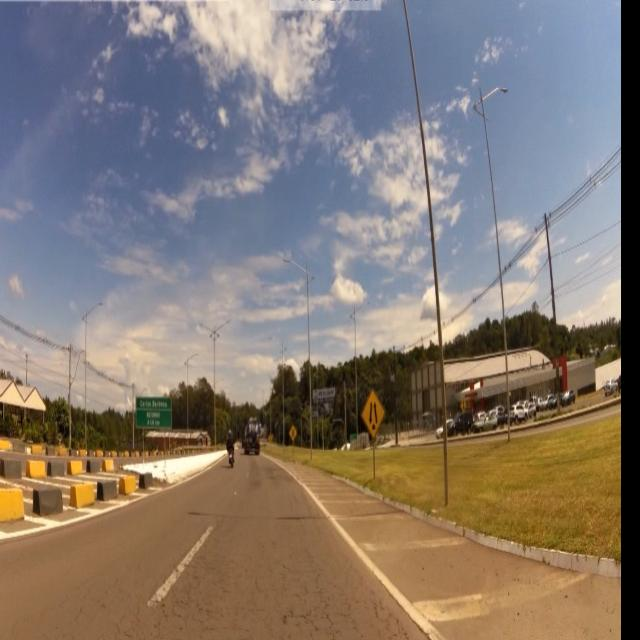A-42b: (362, 390, 386, 438)
